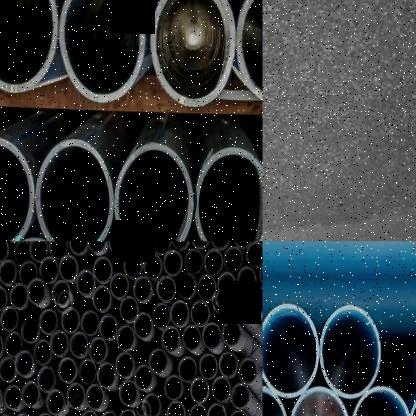pipe: (150, 0, 235, 107), (58, 0, 144, 103), (35, 138, 113, 242), (114, 143, 194, 242), (194, 146, 262, 242), (320, 305, 381, 399), (0, 0, 58, 93), (263, 303, 318, 398), (0, 136, 35, 241), (235, 0, 263, 105), (289, 385, 350, 416), (351, 385, 411, 416), (238, 357, 258, 385), (198, 353, 218, 380), (202, 322, 222, 349), (237, 266, 257, 293), (231, 382, 250, 410), (219, 350, 238, 378), (39, 256, 58, 284), (190, 376, 209, 403), (149, 348, 168, 375), (61, 307, 80, 334), (191, 300, 210, 327), (212, 299, 231, 326), (119, 296, 138, 323), (230, 293, 249, 320), (157, 275, 176, 302), (177, 273, 196, 300), (143, 253, 162, 280), (124, 252, 143, 279), (224, 246, 243, 273), (15, 349, 33, 377), (81, 309, 99, 337), (93, 285, 111, 313), (198, 274, 216, 302), (218, 271, 236, 299), (94, 256, 112, 284), (178, 357, 198, 382), (119, 380, 138, 406), (115, 352, 134, 378), (170, 300, 189, 326), (110, 272, 129, 298), (163, 250, 182, 276), (204, 249, 223, 275), (22, 380, 40, 407), (134, 364, 152, 391), (116, 324, 134, 351), (100, 314, 118, 341), (134, 276, 152, 303), (20, 260, 38, 287), (161, 327, 180, 352), (182, 325, 201, 350), (222, 320, 241, 345), (184, 249, 203, 274), (46, 389, 64, 415), (86, 384, 104, 410), (212, 376, 230, 402), (38, 366, 56, 392), (97, 362, 115, 388), (50, 331, 68, 357), (134, 312, 152, 338), (39, 309, 57, 335), (0, 305, 18, 331), (10, 283, 28, 309), (52, 280, 70, 306), (76, 269, 94, 295), (60, 255, 78, 281), (5, 331, 22, 358), (164, 375, 182, 400), (78, 359, 96, 384), (34, 340, 52, 365), (89, 338, 107, 363), (70, 333, 88, 358), (22, 318, 40, 343), (152, 303, 170, 328), (246, 241, 262, 269), (4, 385, 22, 409), (66, 384, 84, 408), (58, 358, 76, 382), (0, 258, 16, 285), (13, 242, 31, 266), (142, 393, 160, 416), (0, 355, 15, 382), (28, 242, 48, 262), (30, 280, 46, 304), (250, 286, 262, 313), (50, 242, 68, 260), (166, 400, 184, 416), (152, 242, 170, 256), (207, 403, 226, 416), (132, 242, 152, 254), (188, 404, 207, 416), (108, 242, 127, 254), (68, 242, 86, 254), (88, 242, 106, 254), (0, 285, 7, 311), (0, 242, 8, 262), (228, 409, 249, 416), (190, 242, 210, 249), (79, 409, 98, 416), (171, 242, 190, 249), (233, 242, 252, 249), (118, 409, 136, 416), (258, 260, 262, 288), (100, 410, 118, 416), (14, 412, 32, 416), (0, 334, 3, 358), (36, 412, 53, 416)
